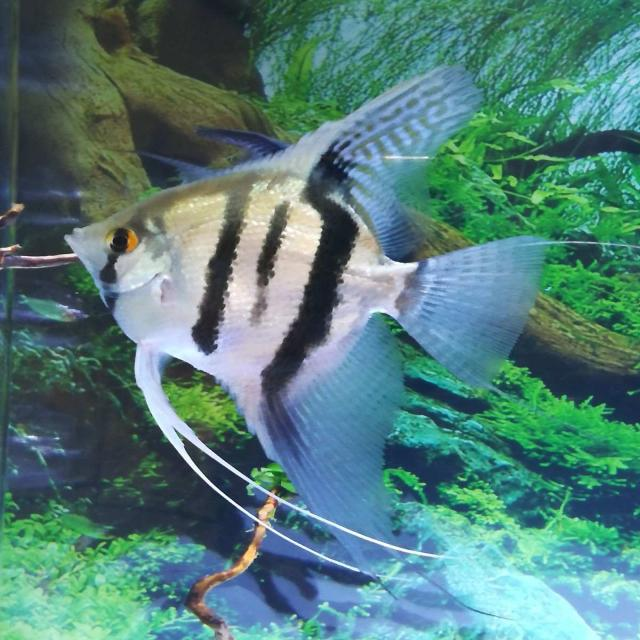AngelFish: (58, 66, 546, 570)
